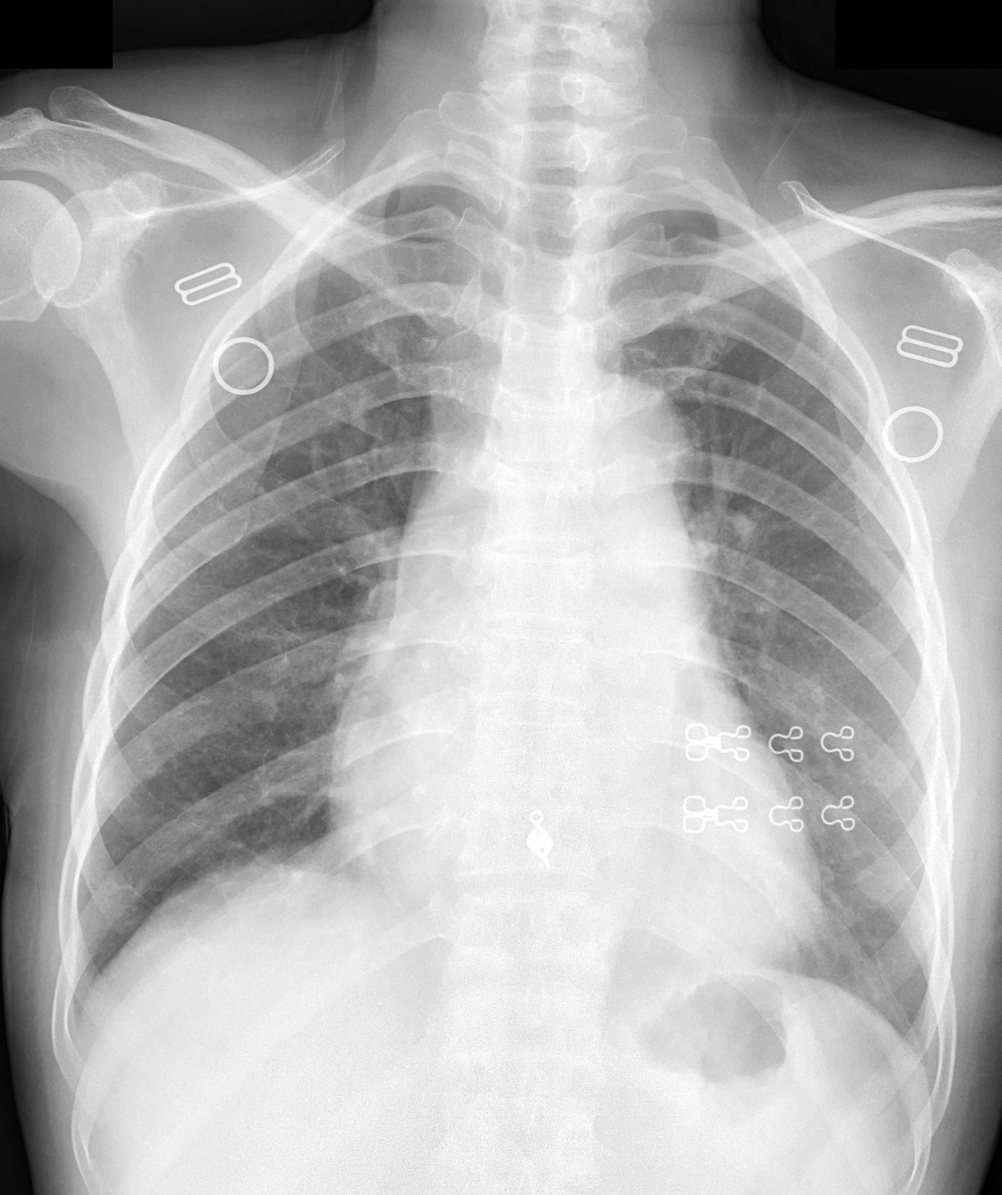Cardiomegaly: (329, 717, 825, 959)
